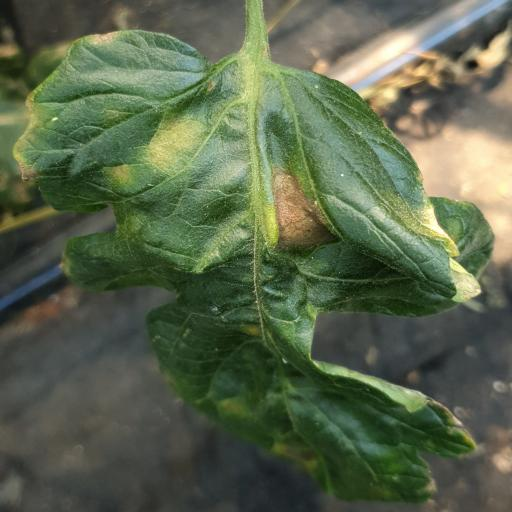disease_tomato: (14, 28, 480, 500)
